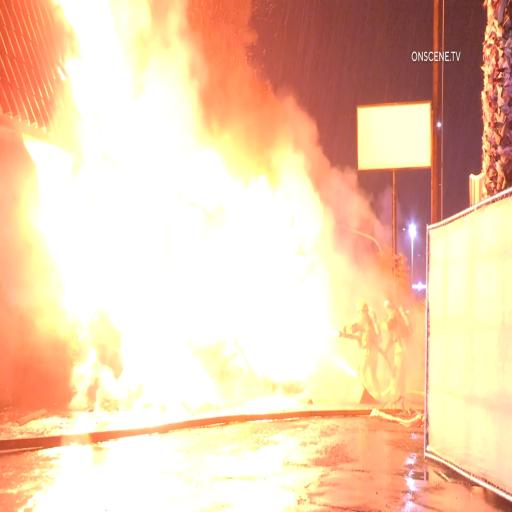fire: (52, 159, 334, 398), (81, 14, 216, 162)
